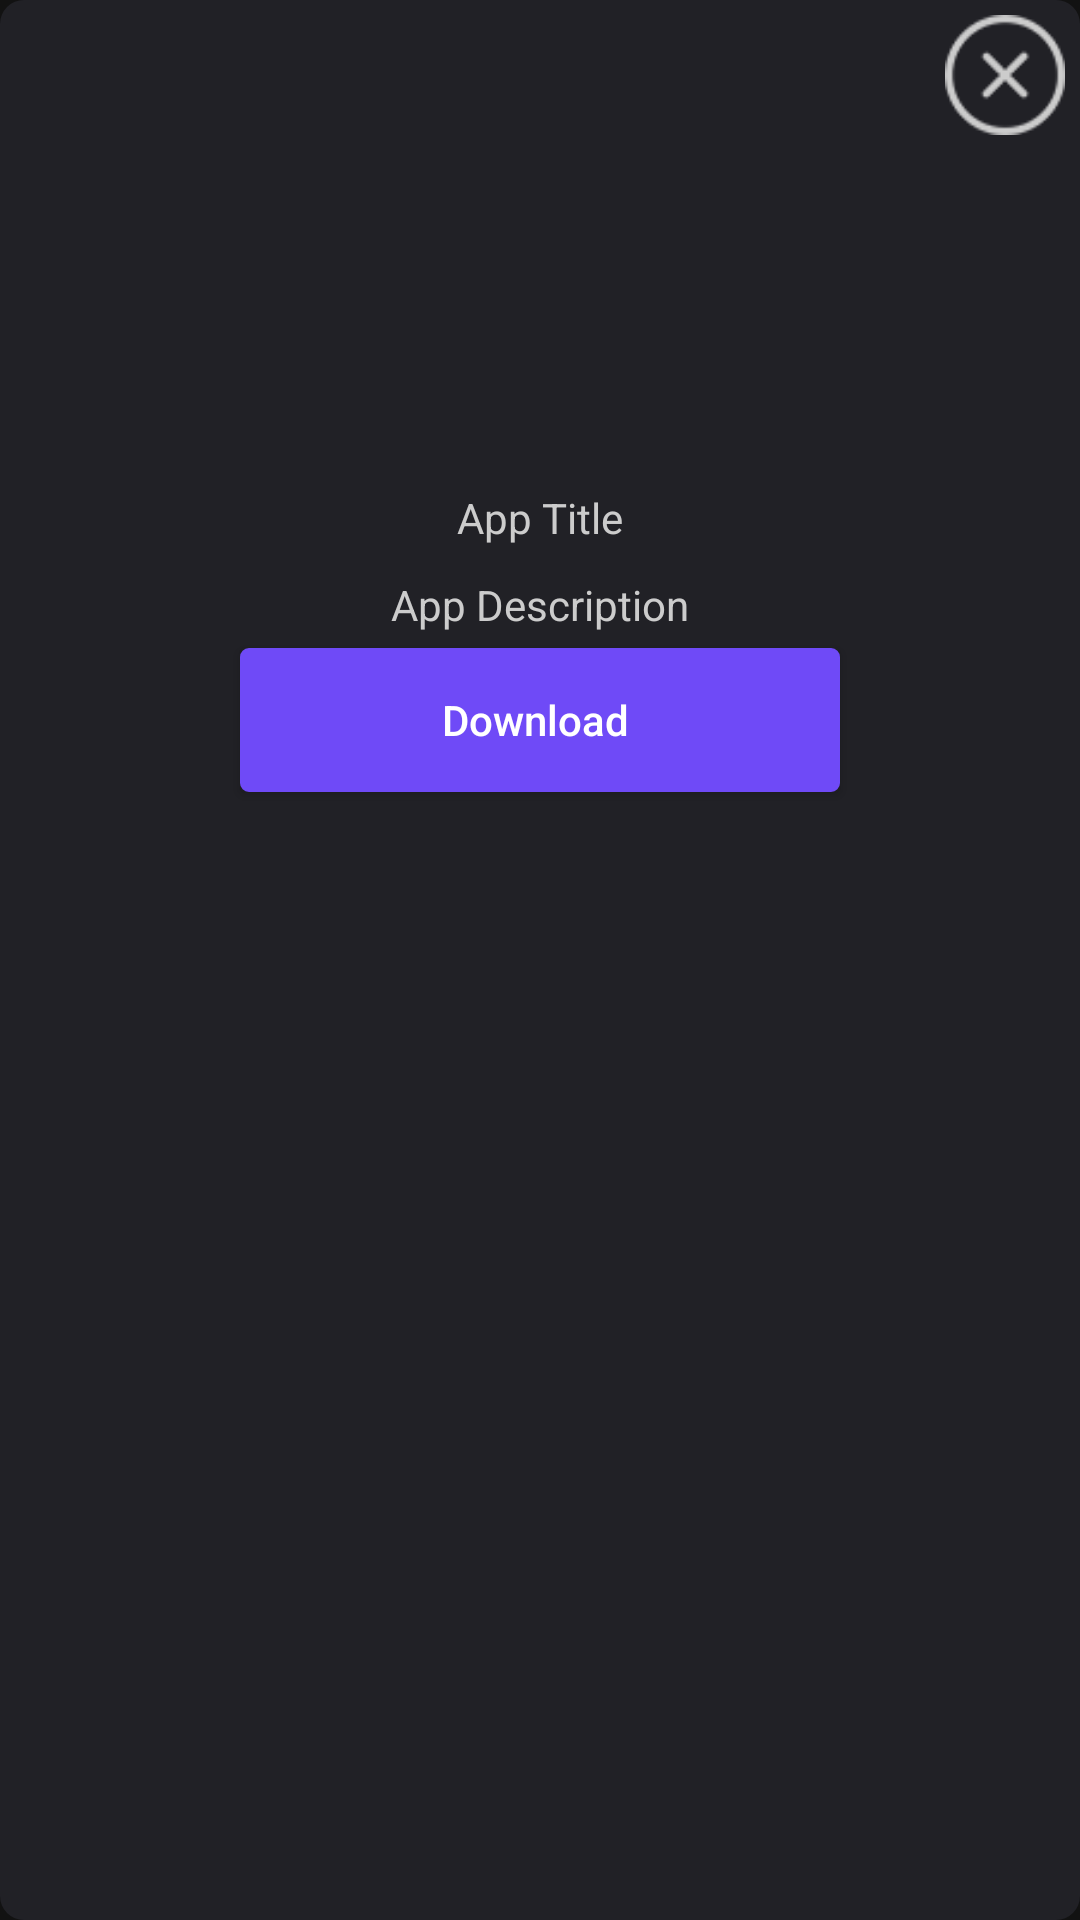

Named icons in this screenshot (1080 x 1920) and their bounding boxes, Rect(x1, y1, x2, y2):
close dialoug: Rect(945, 15, 1065, 135)
